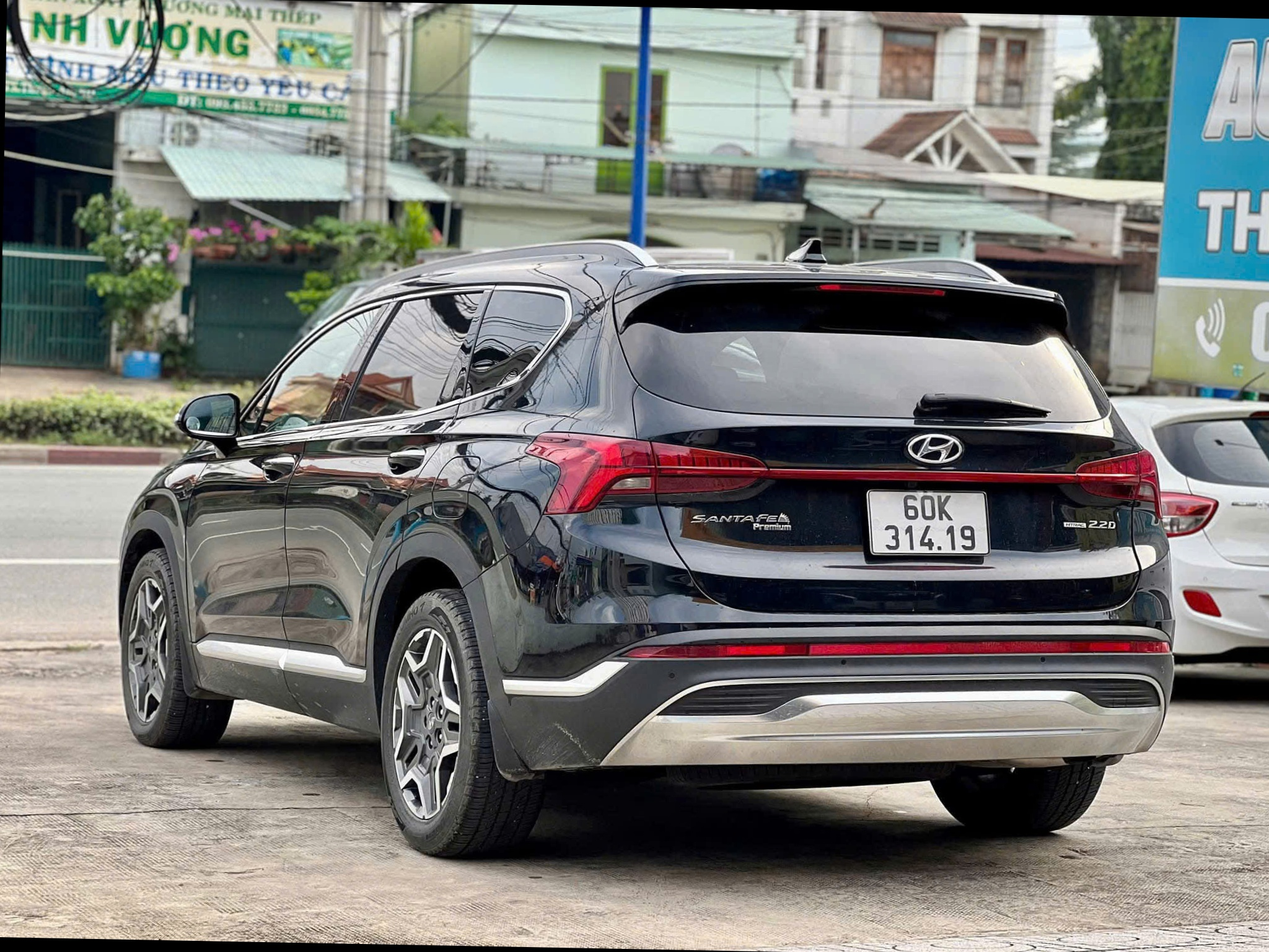Bien-so: (825, 492, 950, 578)
